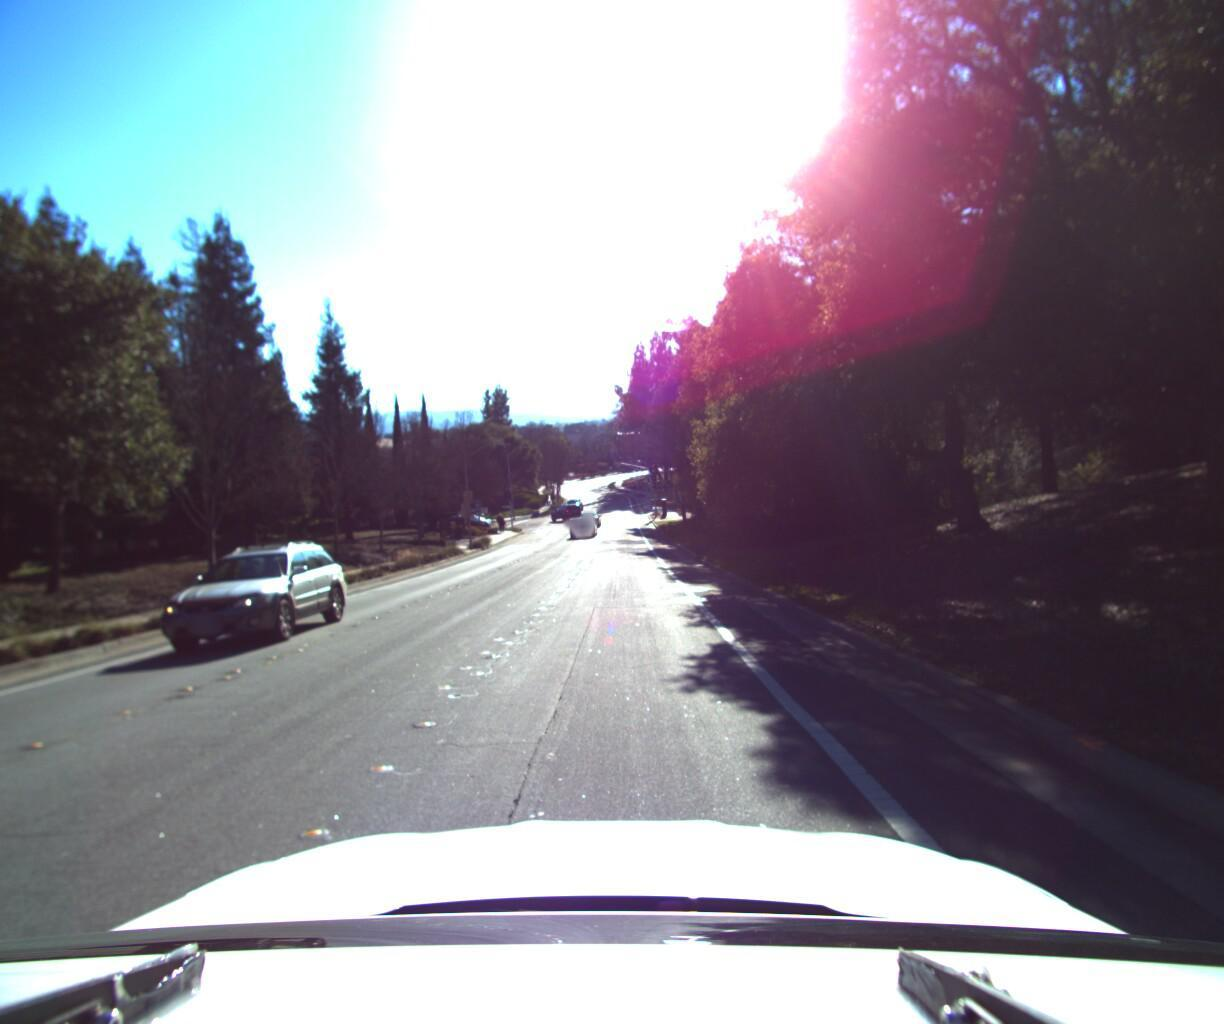car: (128, 530, 362, 683), (565, 509, 600, 540)
